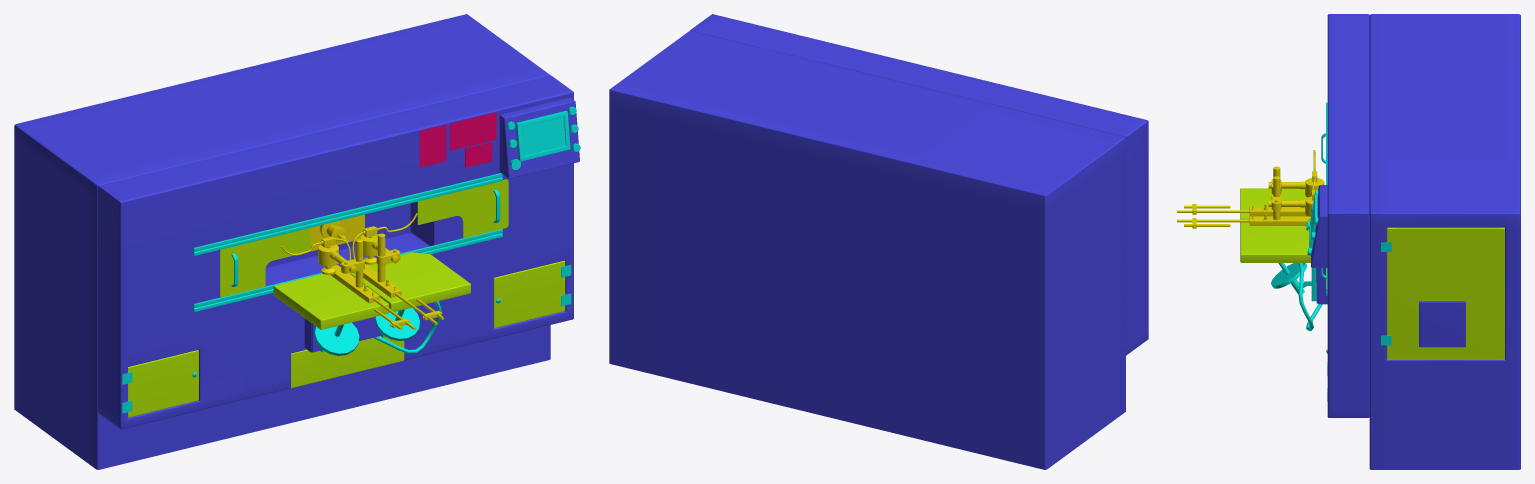
File: SunTouJi.fbx
The picture shows the model from 3 angles, left to right: view 1: azimuth 30°, elevation 25°; view 2: azimuth 150°, elevation 25°; view 3: azimuth 270°, elevation 25°; orthographic projection. The views are drawn at different scales.
Visible parts, largest first — view 1: polySurface393, polySurface418, polySurface414, polySurface397, polySurface398, polySurface413, polySurface392, polySurface433, polySurface400, polySurface406, pCube37, pCube38 (+9 smaller); view 2: polySurface393, polySurface418; view 3: polySurface393, polySurface418, polySurface394, polySurface413, polySurface395, polySurface406, polySurface414, pCube44 (×2), pCylinder80, simplePipe, polySurface405.
Boxes of the visible parts, x1,y1,x2,y2 form: polySurface393: (14, 14, 550, 469); polySurface418: (98, 75, 573, 429); polySurface414: (273, 274, 389, 329); polySurface397: (493, 260, 565, 328); polySurface398: (128, 350, 198, 417); polySurface413: (350, 252, 470, 311); polySurface392: (417, 179, 508, 238); polySurface433: (220, 228, 310, 297); polySurface400: (291, 336, 404, 388); polySurface406: (499, 97, 579, 178); pCube37: (193, 173, 502, 255); pCube38: (193, 229, 502, 311); polySurface393: (609, 30, 1125, 469); polySurface418: (690, 14, 1148, 355); polySurface393: (1369, 14, 1520, 469); polySurface418: (1327, 14, 1369, 417); polySurface394: (1387, 227, 1504, 359); polySurface413: (1240, 219, 1310, 262); polySurface395: (1419, 301, 1465, 347); polySurface406: (1311, 185, 1327, 267); polySurface414: (1240, 188, 1308, 219); pCube44 (×2): (1249, 207, 1310, 225); pCylinder80: (1271, 263, 1307, 288); simplePipe: (1298, 263, 1322, 331); polySurface405: (1316, 268, 1327, 304).
Size of the model in its own units: 251 by 150 by 182.
